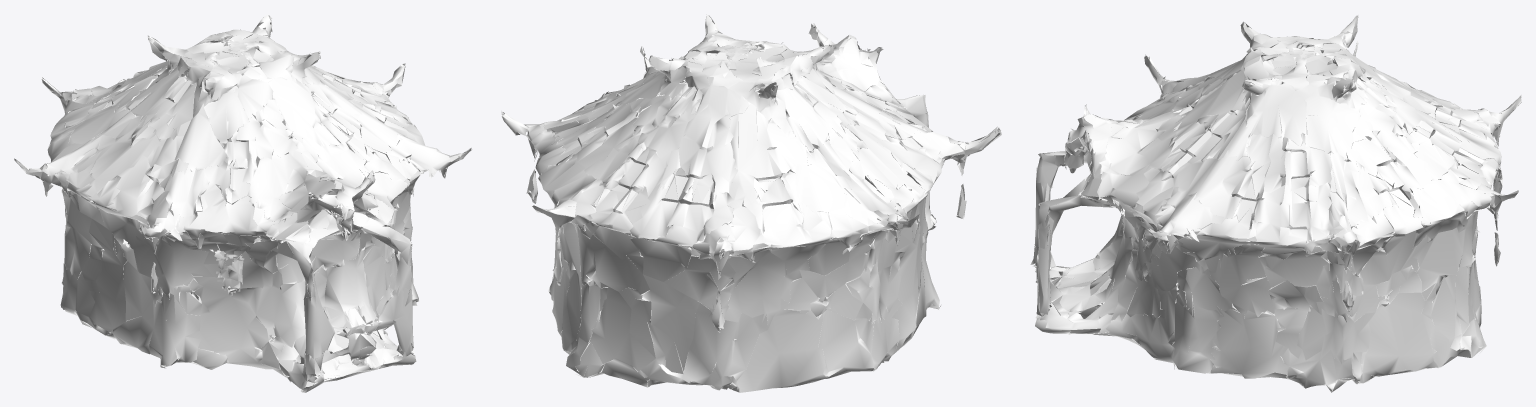
Rendered from yurt_noble_lo.glb.
3 renders of one model, left to right at view 1: azimuth 30°, elevation 25°; view 2: azimuth 150°, elevation 25°; view 3: azimuth 270°, elevation 25°, orthographic. The views are drawn at different scales.
Visible parts, largest first — view 1: output_unwrapped; view 2: output_unwrapped; view 3: output_unwrapped.
Boxes of the visible parts, x1=… form: output_unwrapped: x1=14, y1=14, x2=471, y2=392; output_unwrapped: x1=501, y1=14, x2=1001, y2=392; output_unwrapped: x1=1030, y1=15, x2=1521, y2=392.
Size of the model in its own units: 12.59 by 8.05 by 13.07.
Materials: 1 (1 with a texture image).
